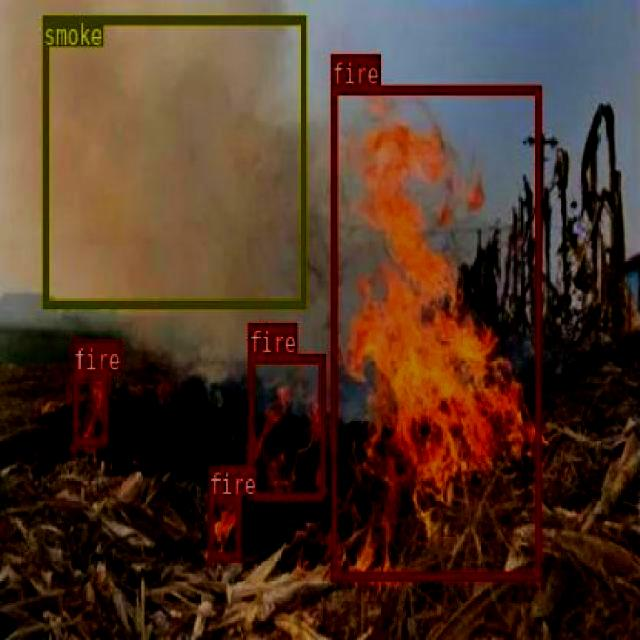fire: (331, 84, 540, 580), (248, 354, 324, 498), (71, 372, 107, 446), (208, 494, 240, 560)
smoke: (42, 13, 304, 306)
